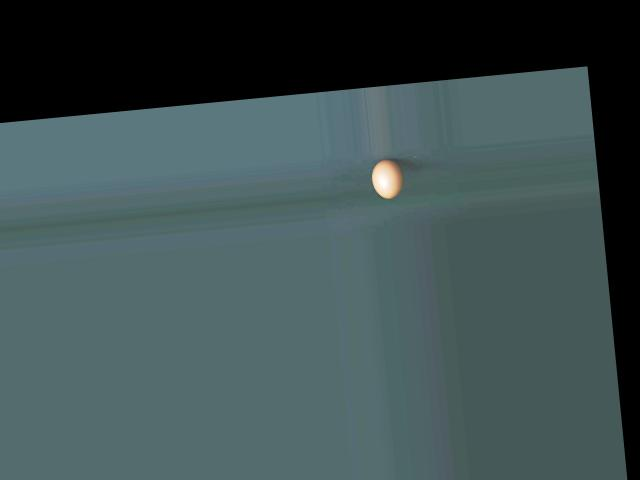egg: (371, 157, 404, 199)
